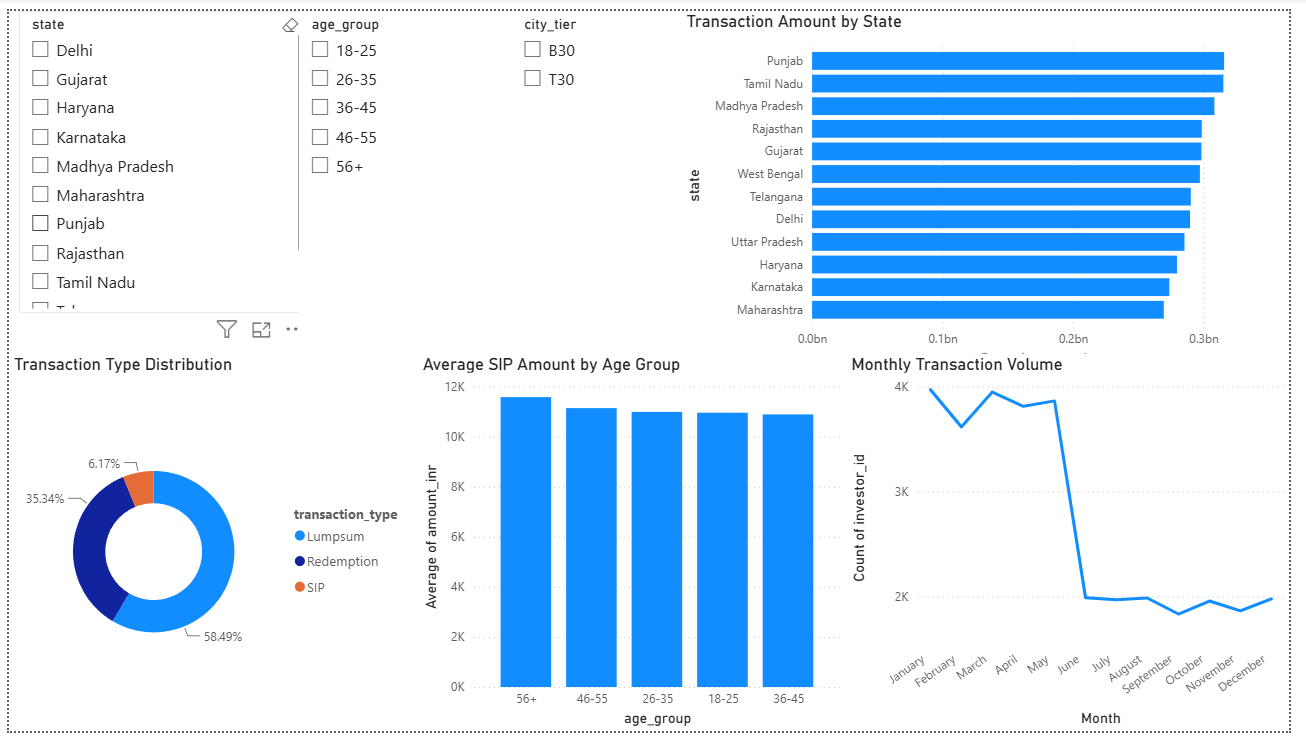

What the dashboard file says about the page in this screenshot:
{"tool":"powerbi","page":{"name":"Investor Analytics","canvas":[1280,720],"ordinal":2},"visuals":[{"type":"slicer","fields":{"Values":["08_investor_transactions_cleaned.state"]},"box":[10,0,292.5,302.5],"z":0},{"type":"slicer","fields":{"Values":["08_investor_transactions_cleaned.age_group"]},"box":[290,0,280,342.5],"z":1},{"type":"slicer","fields":{"Values":["08_investor_transactions_cleaned.city_tier"]},"box":[502.5,0,250,280],"z":2},{"type":"clusteredBarChart","title":"Transaction Amount by State","fields":{"Y":["Sum(08_investor_transactions_cleaned.amount_inr)"],"Category":["08_investor_transactions_cleaned.state"]},"box":[672.5,0,607.5,360],"z":3},{"type":"donutChart","title":"Transaction Type Distribution","fields":{"Category":["08_investor_transactions_cleaned.transaction_type"],"Y":["Sum(08_investor_transactions_cleaned.amount_inr)"]},"box":[0,342.5,408.8,377.5],"z":4},{"type":"clusteredColumnChart","title":"Average SIP Amount by Age Group","fields":{"Category":["08_investor_transactions_cleaned.age_group"],"Y":["Avg(08_investor_transactions_cleaned.amount_inr)"]},"box":[408.8,342.5,428.8,377.5],"z":5},{"type":"lineChart","title":"Monthly Transaction Volume","fields":{"Category":["08_investor_transactions_cleaned.transaction_date.Variation.Date Hierarchy.Month"],"Y":["CountNonNull(08_investor_transactions_cleaned.investor_id)"]},"box":[837.5,342.5,442.5,377.5],"z":6}]}

Visuals, with their boxes in screenshot pixels (x1, y1, x2, y2), scaled from the page's 1280x720 canvas onto the 1306x737 screenshot:
slicer - 08_investor_transactions_cleaned.state: (10, 0, 309, 310)
slicer - 08_investor_transactions_cleaned.age_group: (296, 0, 582, 351)
slicer - 08_investor_transactions_cleaned.city_tier: (513, 0, 768, 287)
"Transaction Amount by State" clusteredBarChart: (686, 0, 1305, 368)
"Transaction Type Distribution" donutChart: (0, 351, 417, 736)
"Average SIP Amount by Age Group" clusteredColumnChart: (417, 351, 855, 736)
"Monthly Transaction Volume" lineChart: (855, 351, 1305, 736)
